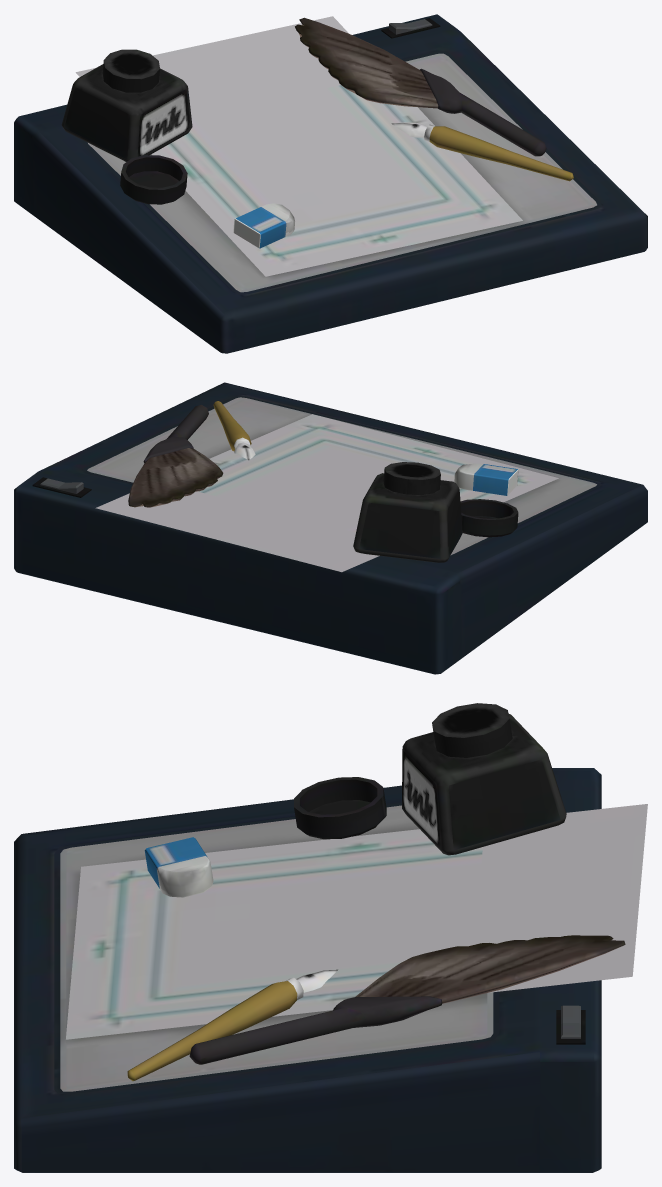
The picture shows the model from 3 angles, top to bottom: view 1: azimuth 30°, elevation 25°; view 2: azimuth 150°, elevation 25°; view 3: azimuth 270°, elevation 25°; orthographic projection. The views are drawn at different scales.
Bounding box in the file's own units: 8.8 × 3.08 × 8.12.
2 materials, 2 textured.
